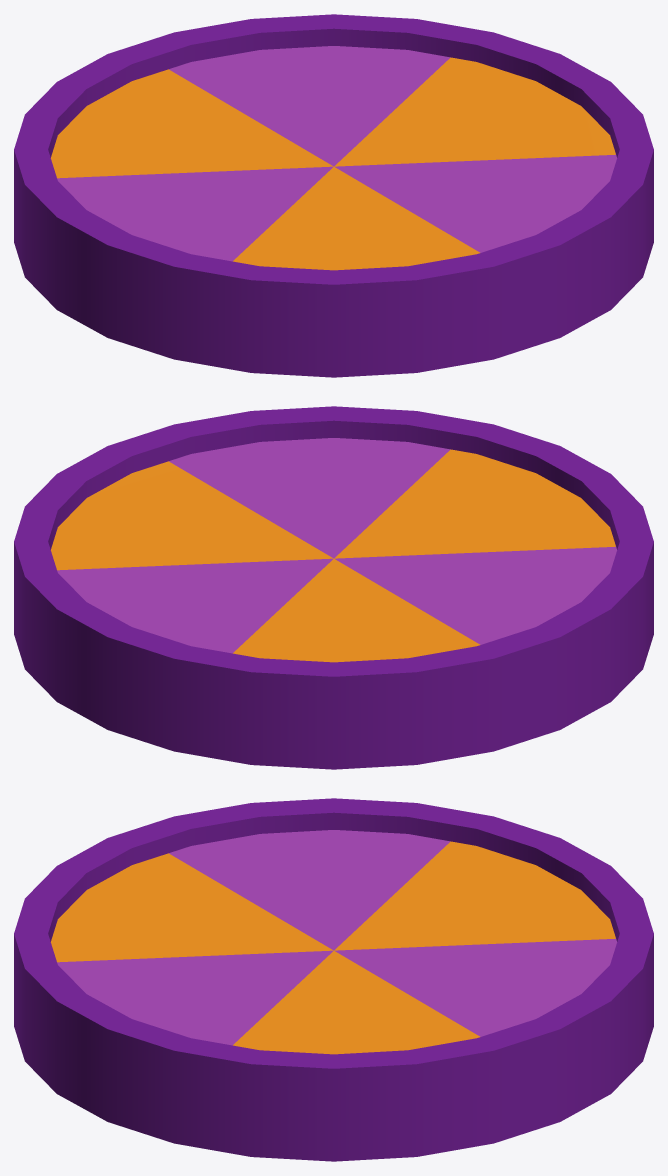
The model's file is SpinningPlatform.fbx.
The picture shows the model from 3 angles, top to bottom: view 1: azimuth 30°, elevation 25°; view 2: azimuth 150°, elevation 25°; view 3: azimuth 270°, elevation 25°; orthographic projection.
Parts seen in each view (by area): view 1: Spinner, Base; view 2: Spinner, Base; view 3: Spinner, Base.
Part boxes in pixels (x1=…): Spinner: x1=51, y1=46, x2=616, y2=270; Base: x1=14, y1=14, x2=653, y2=377; Spinner: x1=51, y1=438, x2=616, y2=662; Base: x1=14, y1=406, x2=653, y2=769; Spinner: x1=51, y1=830, x2=616, y2=1054; Base: x1=14, y1=798, x2=653, y2=1161.
Size of the model in its own units: 2 by 2 by 0.32.
